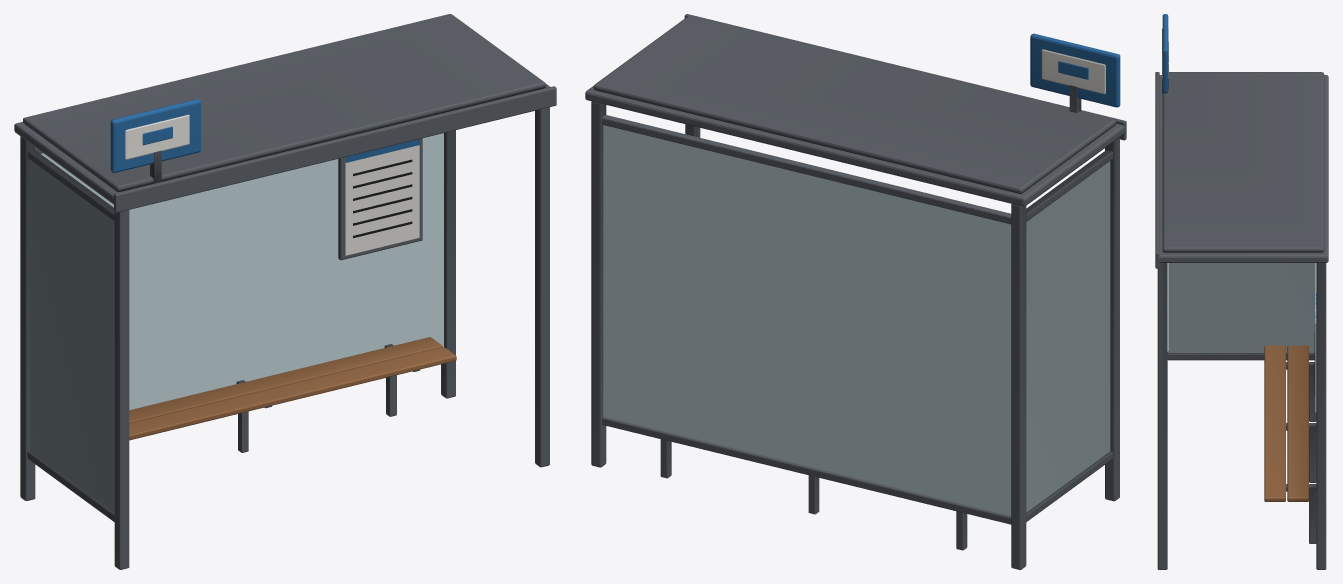
The model's file is busStop.glb.
3 renders of one model, left to right at view 1: azimuth 30°, elevation 25°; view 2: azimuth 150°, elevation 25°; view 3: azimuth 270°, elevation 25°, orthographic. The views are drawn at different scales.
Visible parts, largest first — view 1: busStop; view 2: busStop; view 3: busStop.
Boxes of the visible parts, x1,y1,x2,y2 form: busStop: [14, 14, 556, 569]; busStop: [585, 14, 1126, 569]; busStop: [1155, 14, 1328, 569].
Bounding box in the file's own units: 2.98 × 2.89 × 1.2.
